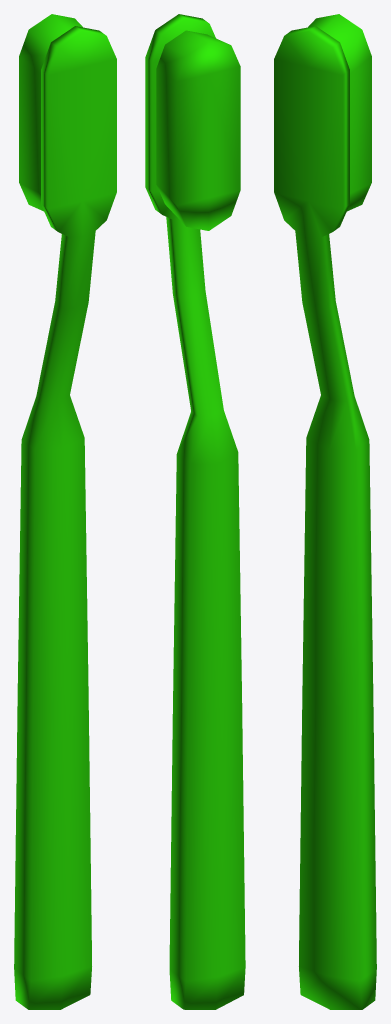
The model's file is Teeth_Brush_01_Lod0.fbx.
3 views of the same model, side by side, from view 1: azimuth 30°, elevation 25°; view 2: azimuth 210°, elevation 25°; view 3: azimuth 330°, elevation 25° (orthographic). The views are drawn at different scales.
Parts seen in each view (by area): view 1: Teeth_Brush_01_Lod0; view 2: Teeth_Brush_01_Lod0; view 3: Teeth_Brush_01_Lod0.
Part boxes in pixels (box(x1,y1,x2,y2)): Teeth_Brush_01_Lod0: box(14, 14, 116, 1009); Teeth_Brush_01_Lod0: box(145, 14, 245, 1009); Teeth_Brush_01_Lod0: box(274, 14, 376, 1009).
Size of the model in its own units: 2.22 by 30.69 by 2.25.
